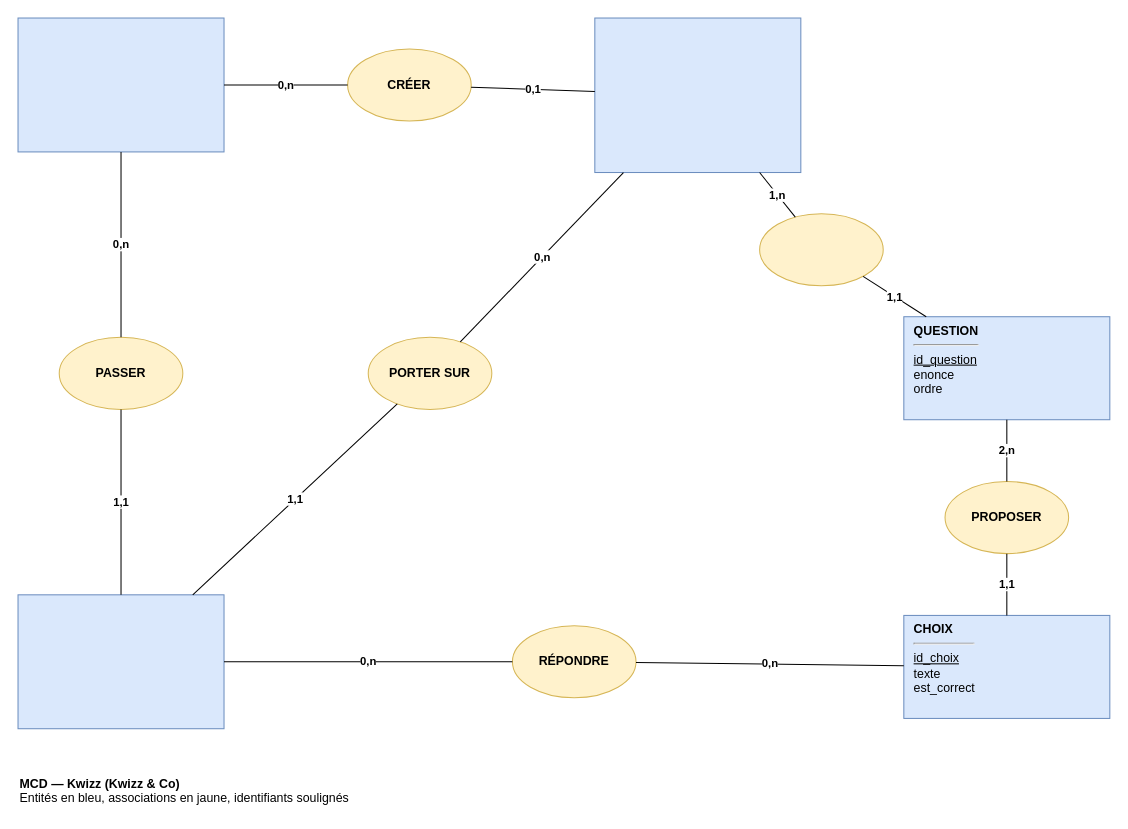
This 1128x829 diagram has some shape labels left out. The shapes that lost their labels are listed below. From the top down, each one's centre as x and y in pixels, then its label:
point (120, 84): UTILISATEUR id_utilisateur login mot_de_passe_hash est_admin date_creation
point (697, 95): QUIZZ id_quizz titre description duree_limite date_creation source
point (821, 249): CONTENIR
point (120, 661): TENTATIVE id_tentative date_passage score nb_questions duree_secondes
